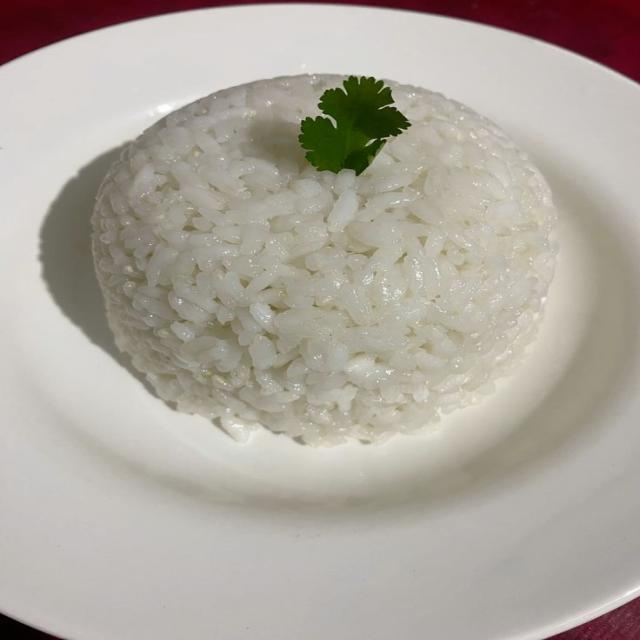rice: (94, 76, 555, 444)
